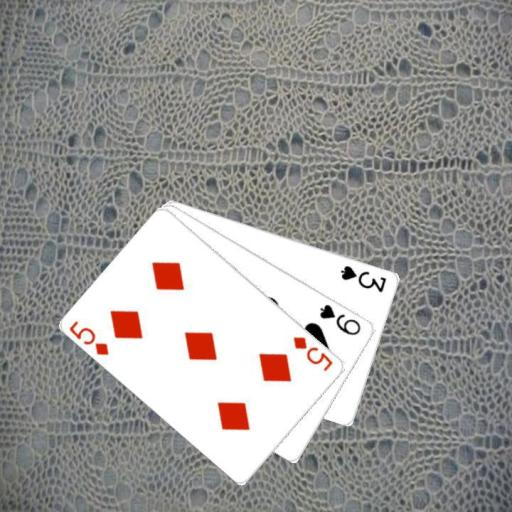3S: (338, 262, 388, 294)
5D: (290, 333, 335, 373), (66, 317, 111, 357)
9S: (317, 301, 363, 337)
